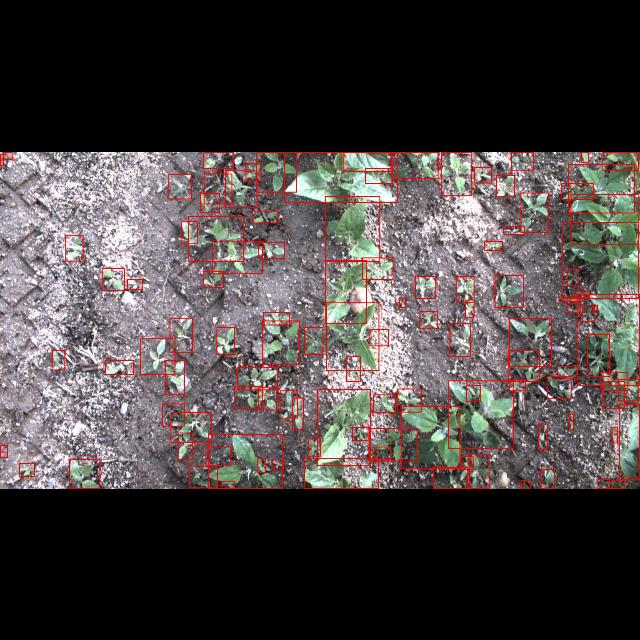crop: (284, 151, 398, 201), (578, 294, 638, 384), (318, 389, 370, 465), (326, 302, 379, 370), (324, 196, 380, 260), (325, 260, 367, 322), (304, 458, 378, 488), (619, 404, 639, 478), (344, 152, 391, 170)
weed: (562, 222, 638, 298), (448, 380, 514, 448), (209, 434, 283, 488), (402, 406, 461, 468), (571, 193, 639, 243), (568, 164, 634, 212), (188, 216, 244, 260), (509, 318, 551, 366), (213, 240, 263, 274), (262, 320, 300, 364), (256, 151, 296, 191), (368, 428, 418, 460), (442, 151, 472, 195), (140, 338, 176, 374), (170, 412, 212, 442), (392, 151, 438, 177), (225, 170, 257, 207), (520, 192, 548, 232), (586, 334, 610, 376), (68, 459, 100, 489), (508, 350, 540, 380), (494, 275, 524, 307), (237, 366, 277, 389), (204, 173, 232, 203), (170, 317, 192, 351), (432, 468, 468, 488), (450, 322, 470, 356), (469, 454, 489, 488), (363, 257, 393, 279), (602, 151, 638, 169), (189, 466, 217, 488), (235, 386, 263, 408), (166, 360, 184, 394), (168, 174, 192, 198), (397, 388, 421, 412), (304, 326, 324, 354), (604, 380, 624, 408), (547, 376, 571, 398), (561, 183, 593, 199), (102, 268, 125, 290), (217, 326, 235, 354), (280, 390, 298, 418), (600, 372, 628, 390), (162, 404, 184, 426), (414, 276, 436, 298), (203, 151, 233, 167), (456, 276, 474, 302), (618, 379, 638, 401), (206, 447, 230, 465), (66, 234, 82, 260), (259, 242, 285, 258), (258, 386, 276, 409), (105, 360, 134, 374), (200, 192, 220, 212), (373, 394, 395, 412), (511, 152, 533, 170), (496, 174, 514, 196), (178, 432, 192, 460), (292, 397, 304, 429), (366, 168, 392, 182), (346, 356, 360, 382), (182, 221, 198, 243), (369, 328, 388, 346), (203, 271, 223, 287), (252, 210, 278, 222), (263, 312, 289, 324), (419, 310, 436, 328), (474, 166, 492, 182), (540, 469, 554, 488), (51, 349, 64, 369), (538, 424, 548, 450), (246, 162, 260, 180), (466, 385, 480, 401), (557, 367, 577, 378), (309, 438, 321, 456), (353, 426, 369, 439), (375, 446, 391, 459), (582, 306, 594, 322), (568, 268, 578, 286), (484, 240, 502, 250), (461, 456, 474, 469), (20, 464, 34, 476), (509, 380, 525, 390), (504, 226, 524, 234), (128, 279, 142, 289), (466, 300, 474, 316), (568, 302, 580, 312), (258, 458, 266, 472), (597, 479, 609, 488), (272, 459, 284, 468), (612, 480, 624, 488), (612, 427, 618, 443), (574, 291, 590, 297), (559, 297, 581, 301), (1, 445, 8, 457), (221, 482, 235, 488), (522, 480, 530, 488), (569, 414, 573, 430), (582, 151, 588, 161), (399, 297, 405, 307), (4, 152, 12, 158), (1, 153, 4, 165), (593, 304, 597, 310)
